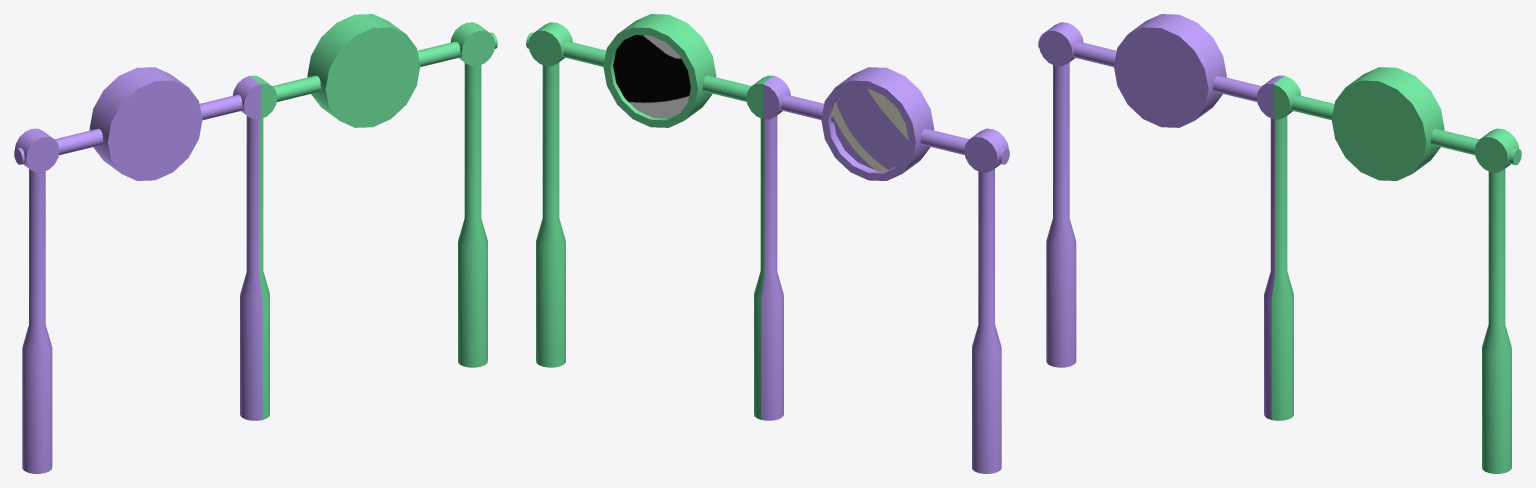
Rendered from 1-Gate--.fbx.
3 views of the same model, side by side, from view 1: azimuth 30°, elevation 25°; view 2: azimuth 150°, elevation 25°; view 3: azimuth 330°, elevation 25° (orthographic).
Parts seen in each view (by area): view 1: 1-Gate; view 2: 1-Gate; view 3: 1-Gate.
Boxes of the visible parts, x1,y1,x2,y2 form: 1-Gate: (14,14,497,473); 1-Gate: (526,14,1009,473); 1-Gate: (1038,14,1521,473).
Size of the model in its own units: 655 by 482 by 43.66.
